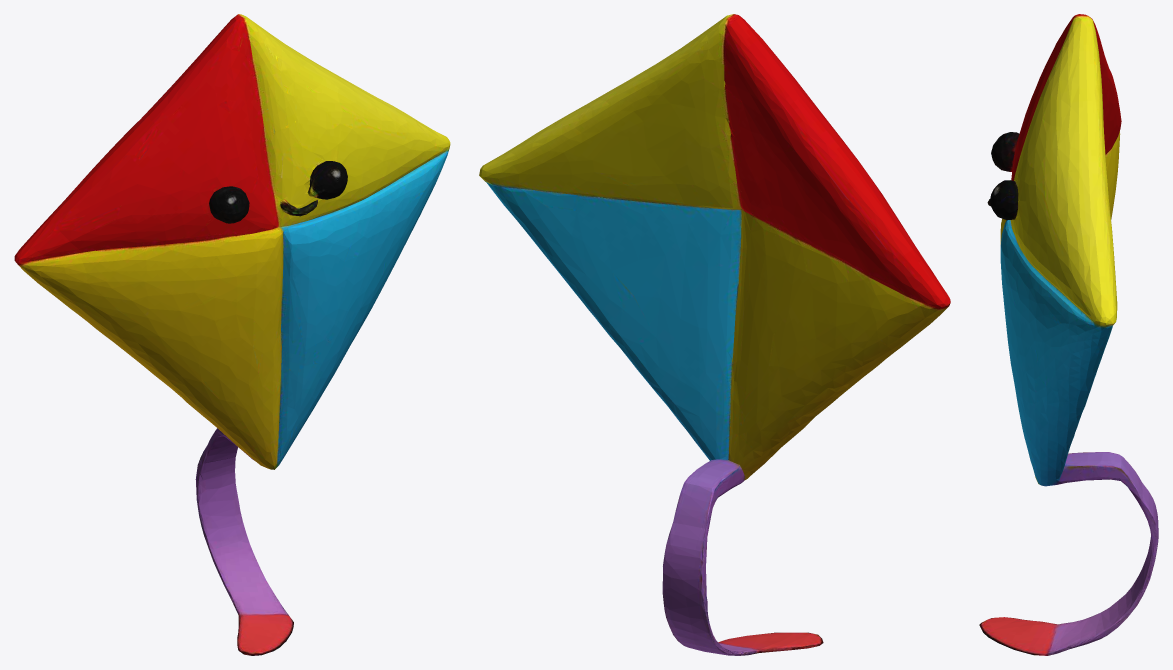
File: kite.glb
3 renders of one model, left to right at view 1: azimuth 30°, elevation 25°; view 2: azimuth 150°, elevation 25°; view 3: azimuth 270°, elevation 25°, orthographic. The views are drawn at different scales.
Visible parts, largest first — view 1: geometry_0; view 2: geometry_0; view 3: geometry_0.
Part boxes in pixels (x1=…): geometry_0: x1=14, y1=14, x2=450, y2=655; geometry_0: x1=479, y1=14, x2=950, y2=655; geometry_0: x1=979, y1=14, x2=1158, y2=655.
Size of the model in its own units: 0.7551 by 0.9983 by 0.2594.
1 material, 1 textured.
